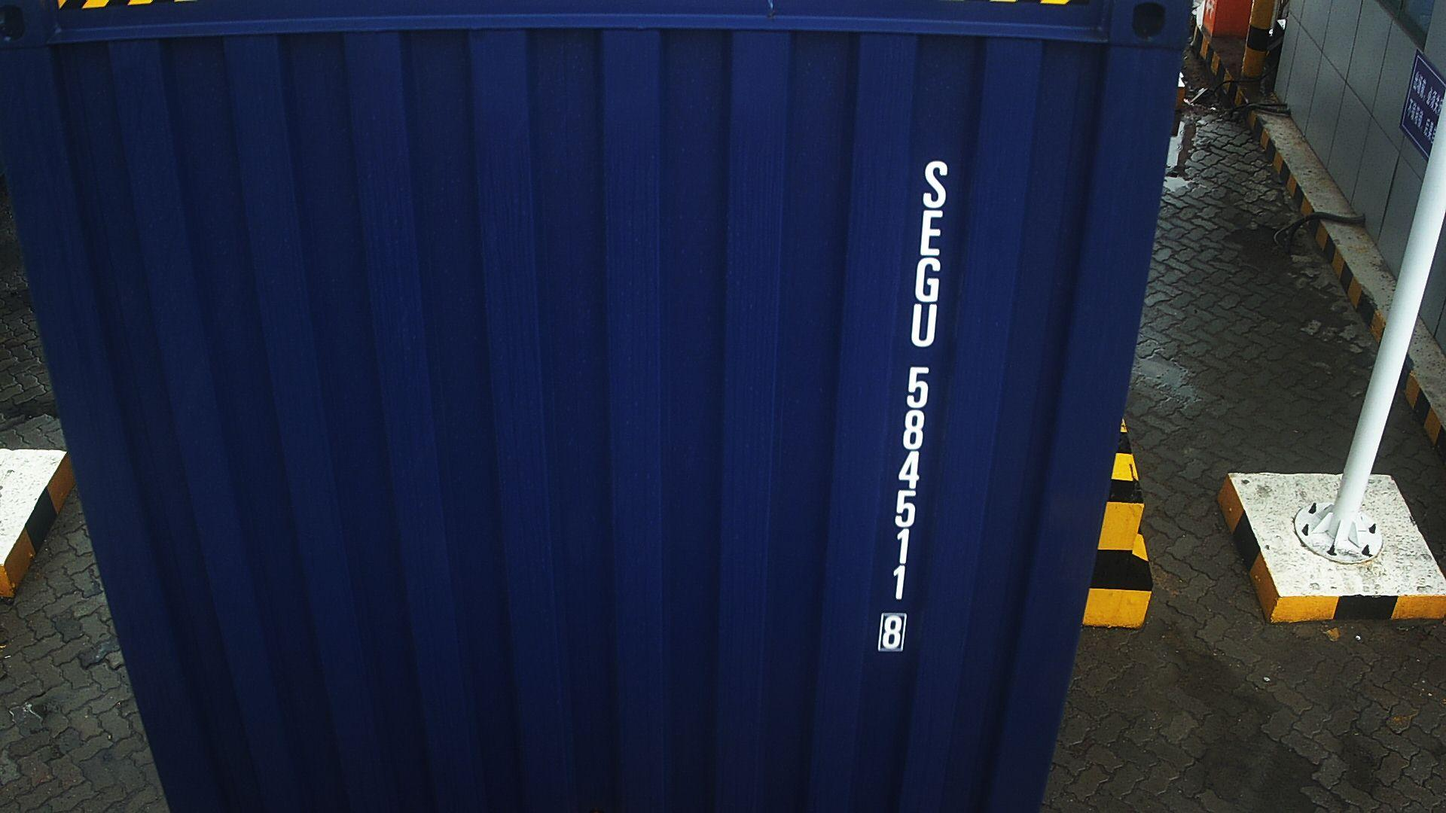container-numbers: (875, 152, 953, 658)
